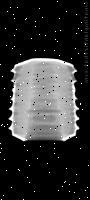Cowellmedi: (7, 50, 78, 143)
